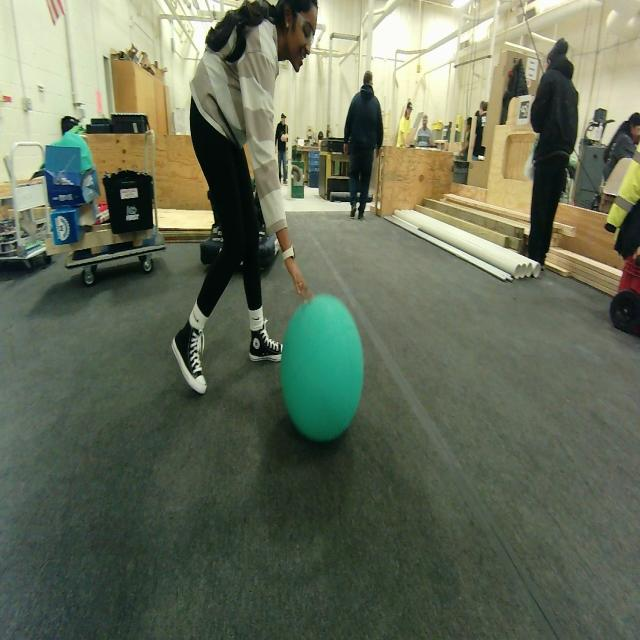algae: (281, 294, 364, 441)
